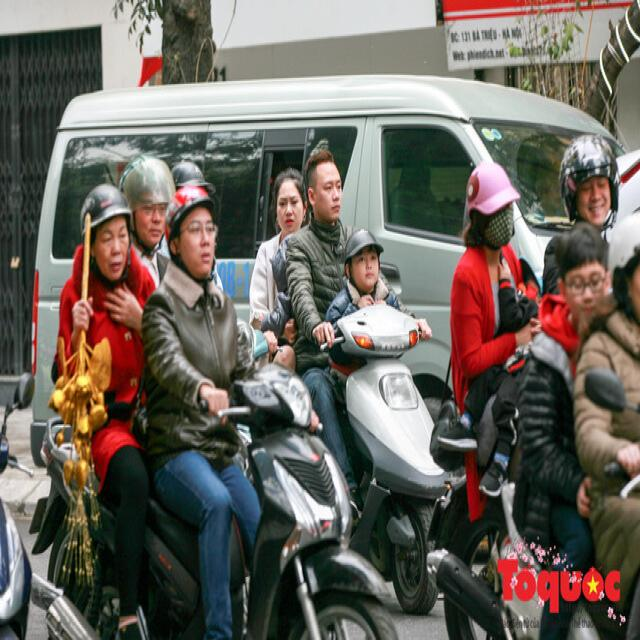helmet: (465, 160, 520, 219), (344, 227, 384, 261)
no_helmet: (304, 142, 345, 234), (268, 164, 308, 238)
